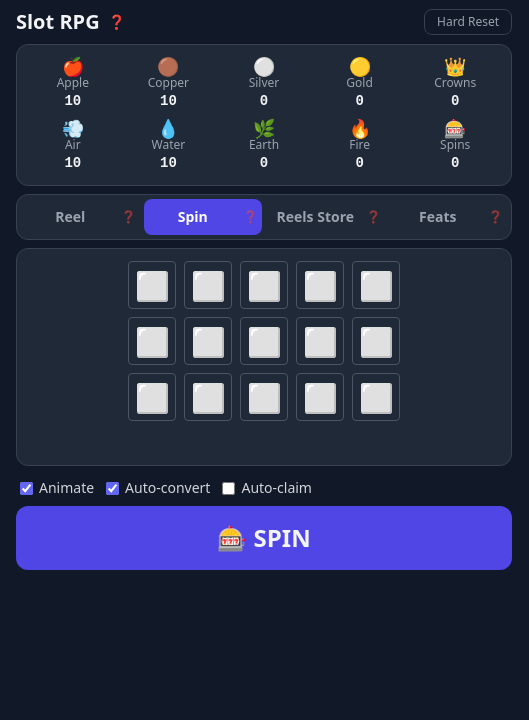
Test case: US2 (v0.6): SPIN/CLAIM same anchor, SpinControls always visible › SpinControls is present during magic phase
This screenshot has width=529, height=720.
Click the button with aria-label "Spin the reels".
click(264, 538)  # box [16,506,512,570]
Wait 5000 ms
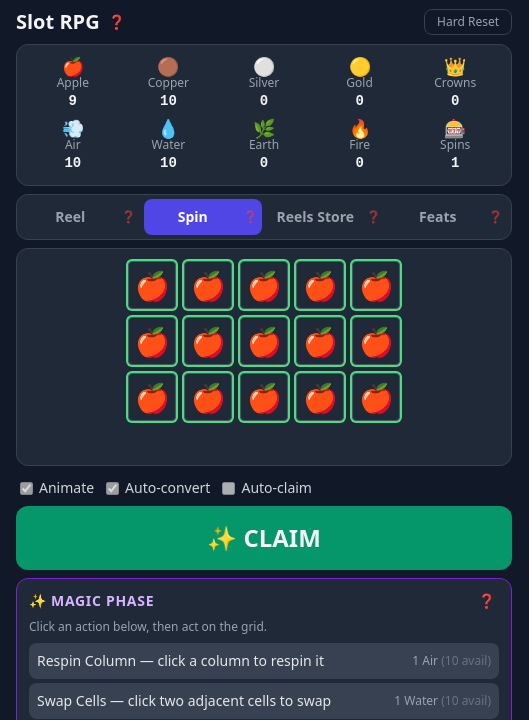
Check: the element named "Slot machine grid" is shown, box [16,248,512,466]
Check: the button "✨ CLAIM" is shown, box [16,506,512,570]
